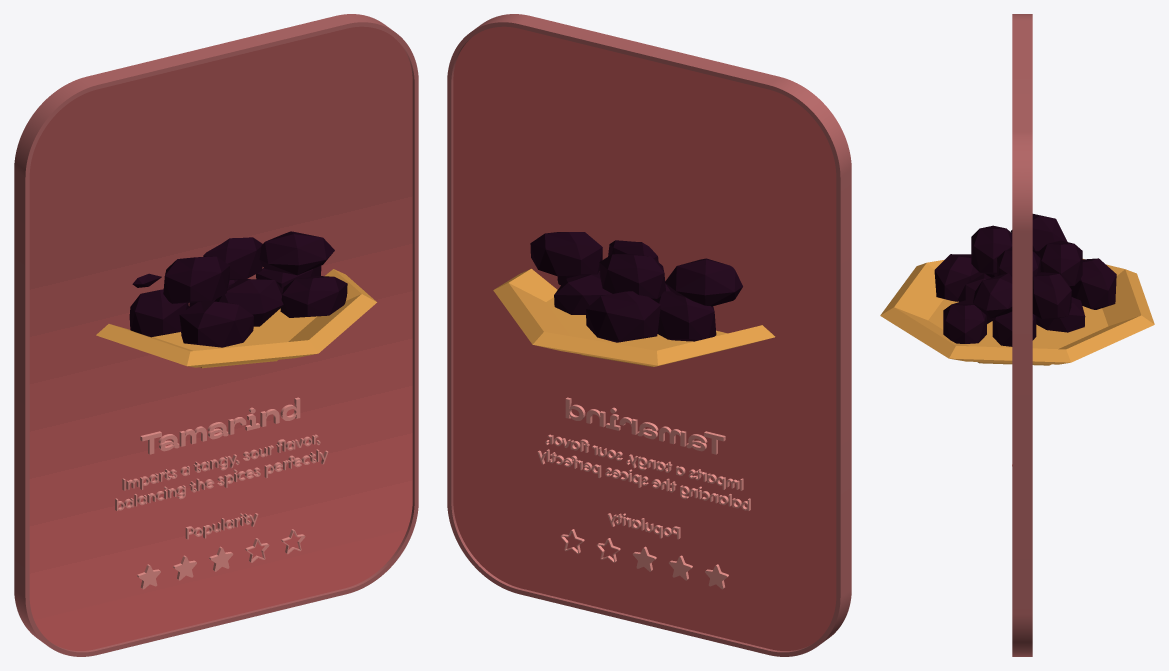
File: tamarind.gltf
3 views of the same model, side by side, from view 1: azimuth 30°, elevation 25°; view 2: azimuth 150°, elevation 25°; view 3: azimuth 270°, elevation 25° (orthographic). The views are drawn at different scales.
Parts seen in each view (by area): view 1: Mesh_2714.001, Raisin_242, Mesh_2362.002, Mesh_2204.002, Mesh_2295.002, Mesh_2736.001; view 2: Mesh_2714.001, Raisin_242, Mesh_2362.002, Mesh_2204.002, Mesh_2295.002, Mesh_2736.001; view 3: Raisin_242, Mesh_2362.002.
Part boxes in pixels (x1,y1,x2,y2): Mesh_2714.001: [29, 26, 412, 650]; Raisin_242: [96, 231, 376, 368]; Mesh_2362.002: [14, 14, 418, 656]; Mesh_2204.002: [115, 434, 328, 539]; Mesh_2295.002: [140, 397, 300, 454]; Mesh_2736.001: [137, 529, 305, 589]; Mesh_2714.001: [453, 26, 836, 650]; Raisin_242: [493, 232, 775, 366]; Mesh_2362.002: [447, 14, 851, 656]; Mesh_2204.002: [537, 434, 750, 539]; Mesh_2295.002: [565, 397, 725, 454]; Mesh_2736.001: [560, 529, 728, 589]; Raisin_242: [880, 214, 1154, 365]; Mesh_2362.002: [1012, 14, 1032, 656].
Size of the model in its own units: 0.3625 by 0.5019 by 0.2412.
32 materials, 28 textured.
